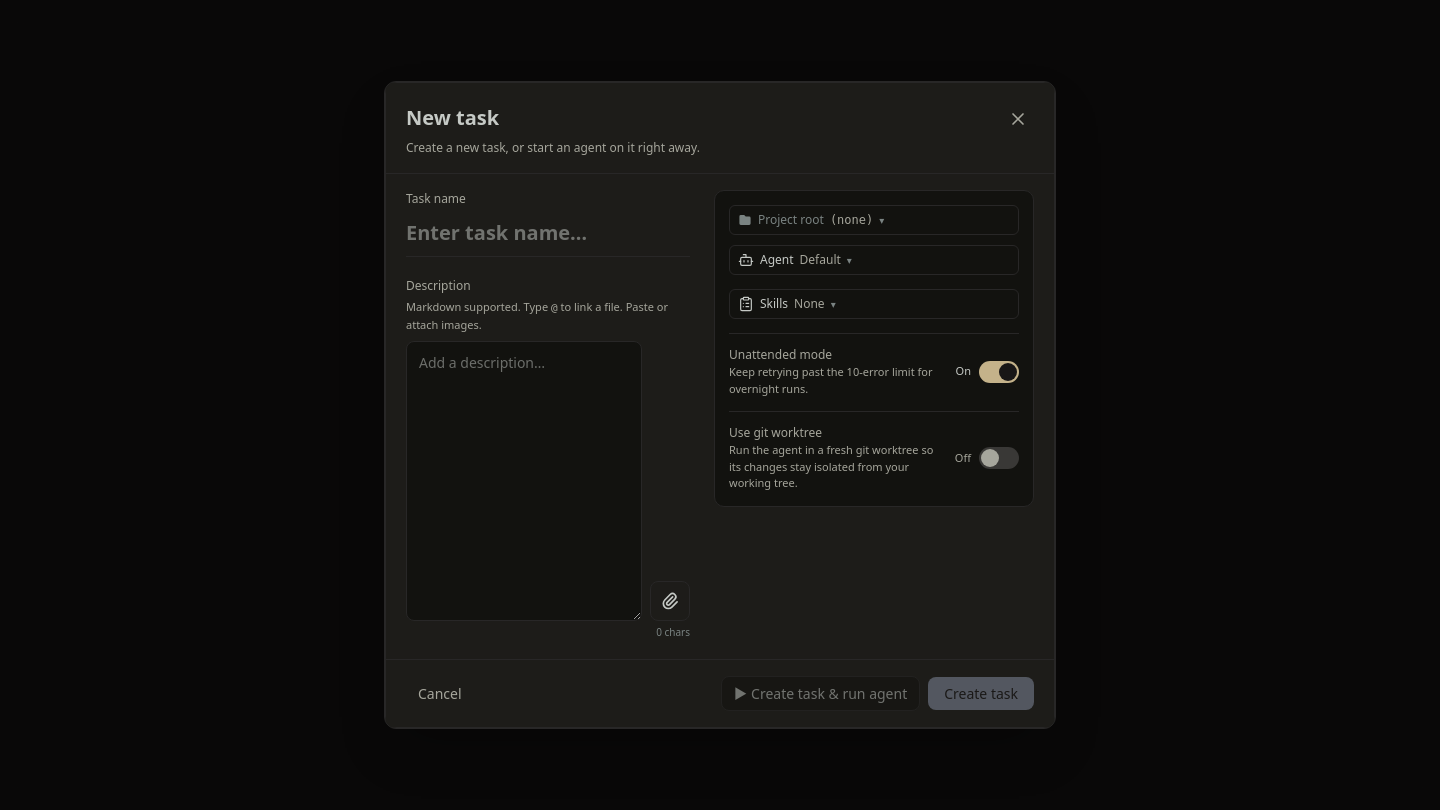
Test: KanbanTaskDetailDialog — agent picker › handles api.getPabrikConfig failure gracefully (no profiles)
What coordinates should you click on to do the following:
click the button with test id "kanban-task-detail-agent-picker"
I would click on:
 (777, 260)
Its box is [729,245,1019,275].
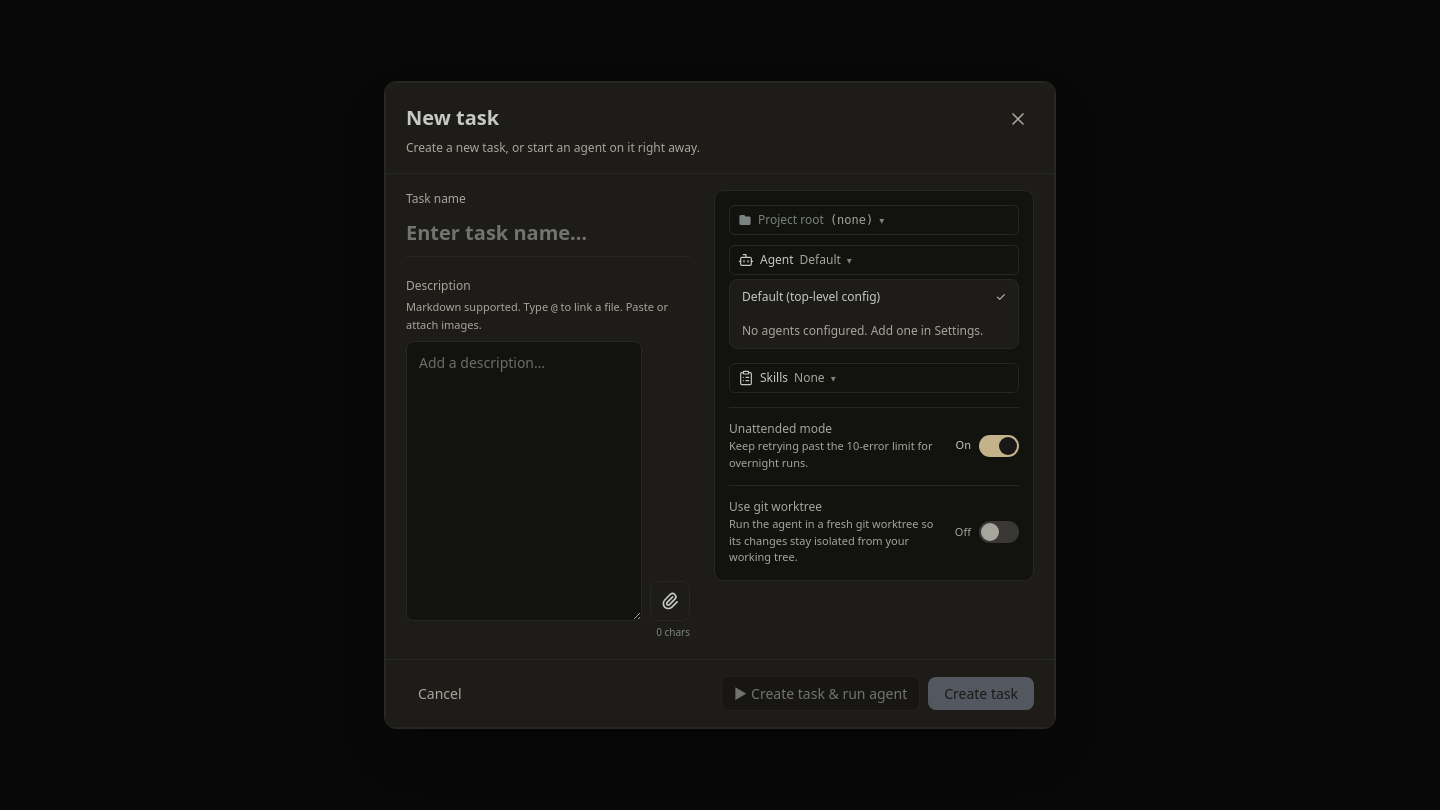
Result: the button with test id "kanban-task-detail-agent-picker-item" shows "Default" at [730,280,1018,314]
